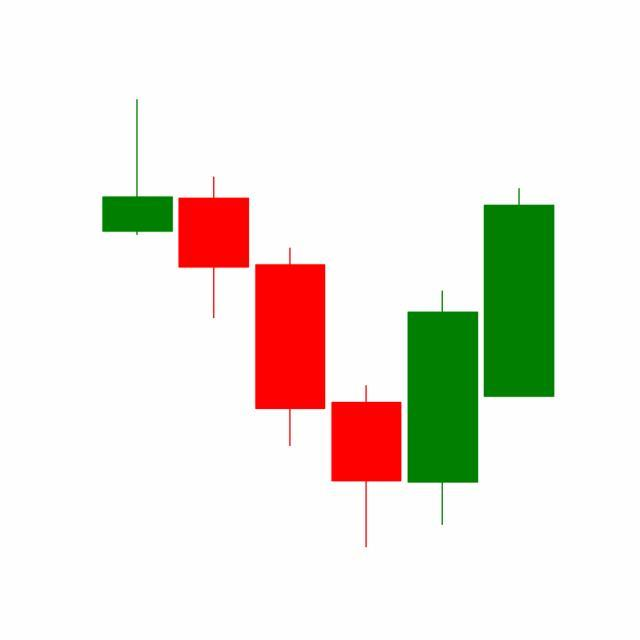Three Outside Up-Down: (326, 184, 555, 548)
